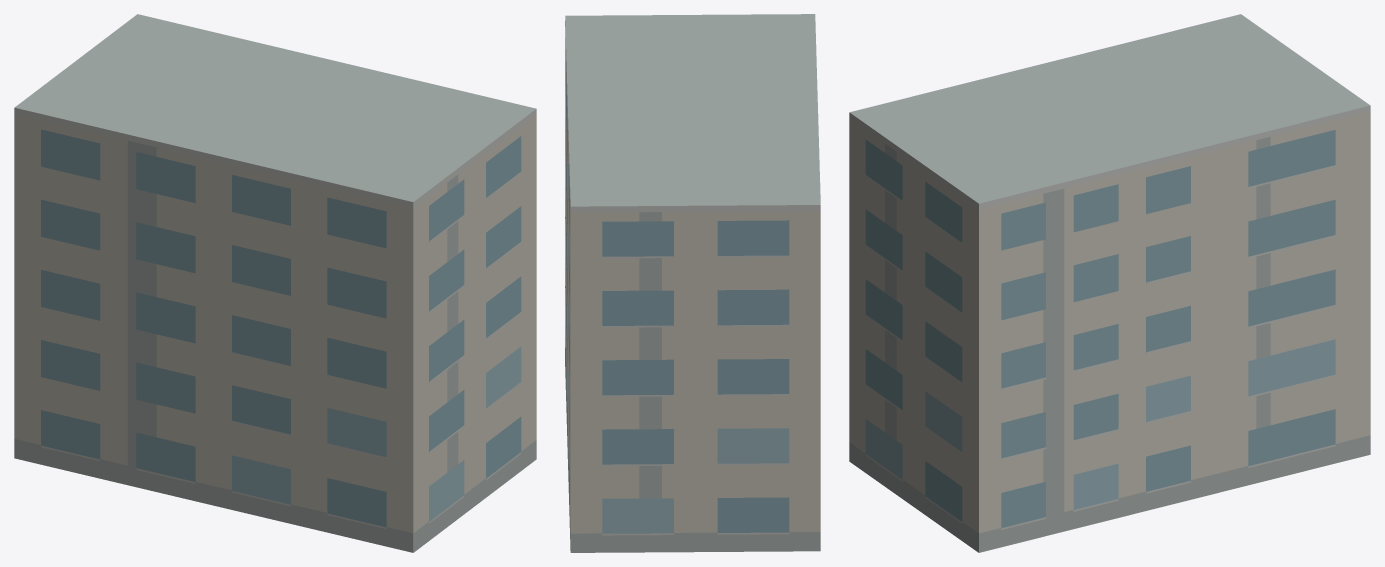
The model's file is survey-upis-32616638.glb.
The picture shows the model from 3 angles, left to right: view 1: azimuth 30°, elevation 25°; view 2: azimuth 150°, elevation 25°; view 3: azimuth 270°, elevation 25°; orthographic projection.
Parts seen in each view (by area): view 1: survey-upis-32616638.tmp; view 2: survey-upis-32616638.tmp; view 3: survey-upis-32616638.tmp.
Part boxes in pixels (x1,y1,x2,y2): survey-upis-32616638.tmp: (14, 14, 536, 552); survey-upis-32616638.tmp: (565, 14, 820, 552); survey-upis-32616638.tmp: (849, 14, 1370, 552).
Size of the model in its own units: 16.21 by 13.9 by 18.81.
